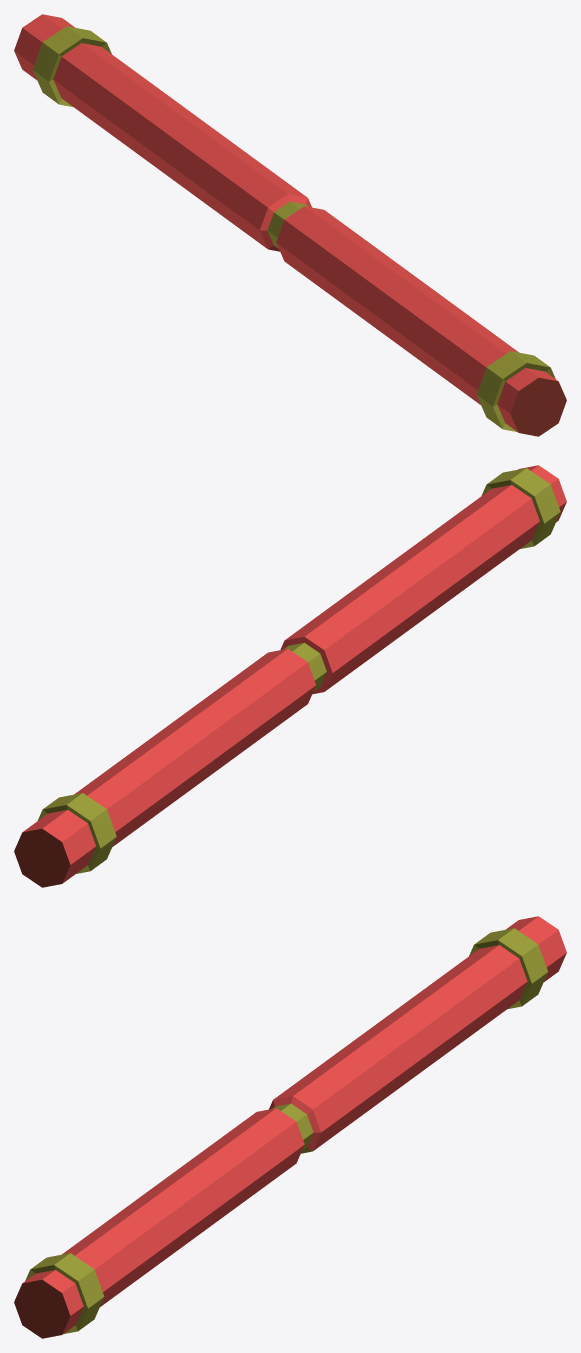
Rendered from pendSupLong.fbx.
3 renders of one model, top to bottom at view 1: azimuth 30°, elevation 25°; view 2: azimuth 150°, elevation 25°; view 3: azimuth 330°, elevation 25°, orthographic.
Parts seen in each view (by area): view 1: Plane; view 2: Plane; view 3: Plane.
Boxes of the visible parts, box(x1,y1,x2,y2) form: Plane: box(14, 14, 566, 436); Plane: box(14, 465, 566, 887); Plane: box(14, 916, 566, 1338).
Bounding box in the file's own units: 36.42 × 36.42 × 462.
